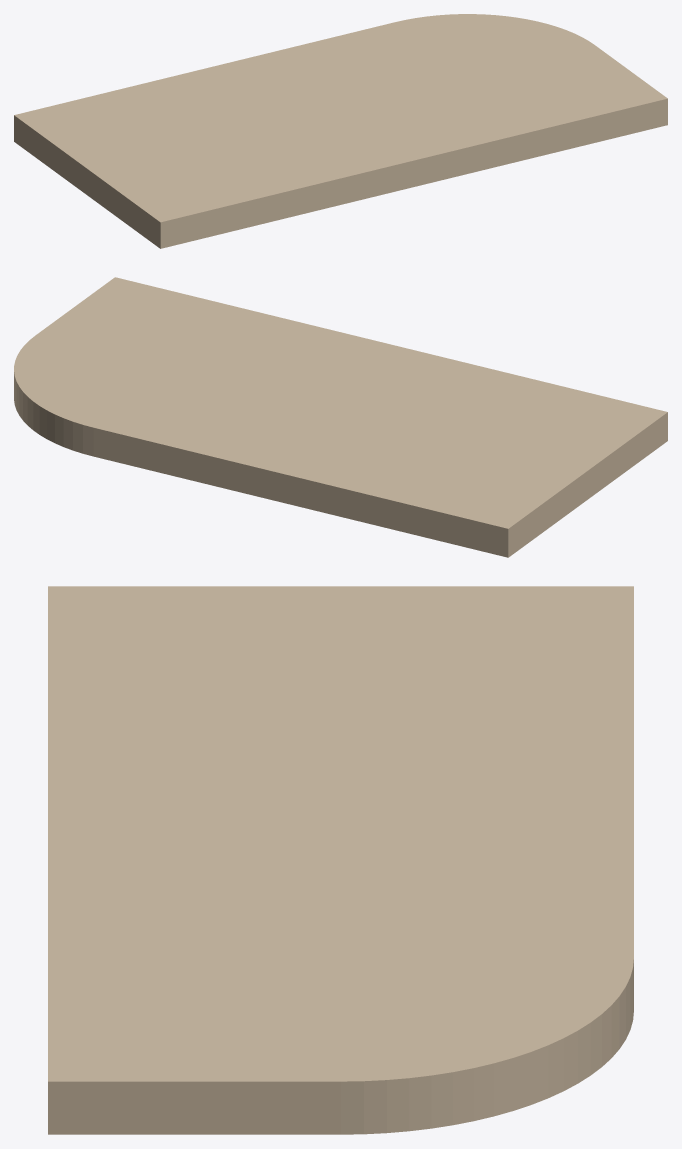
File: sidewalk_half_roundcorner.fbx
3 renders of one model, top to bottom at view 1: azimuth 30°, elevation 25°; view 2: azimuth 150°, elevation 25°; view 3: azimuth 270°, elevation 25°, orthographic. The views are drawn at different scales.
Visible parts, largest first — view 1: sidewalk round corners half; view 2: sidewalk round corners half; view 3: sidewalk round corners half.
Part boxes in pixels (left/top/right/bottom): sidewalk round corners half: left=14, top=14, right=667, bottom=248; sidewalk round corners half: left=14, top=277, right=667, bottom=557; sidewalk round corners half: left=48, top=586, right=633, bottom=1134.
Bounding box in the file's own units: 2000 × 100 × 1000.
